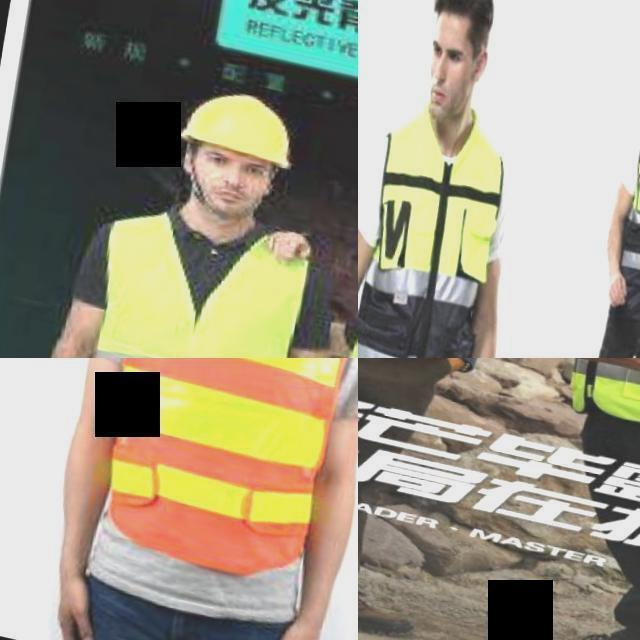vest: (83, 358, 358, 592), (75, 191, 319, 358), (358, 115, 507, 358), (615, 116, 640, 301)
